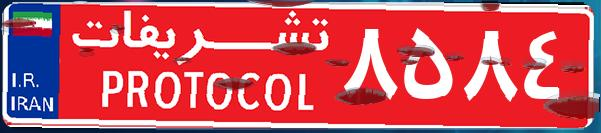4: (520, 20, 580, 115)
5: (400, 20, 460, 115)
8: (340, 20, 400, 115), (460, 20, 520, 115)
تشریفات: (60, 8, 340, 125)
